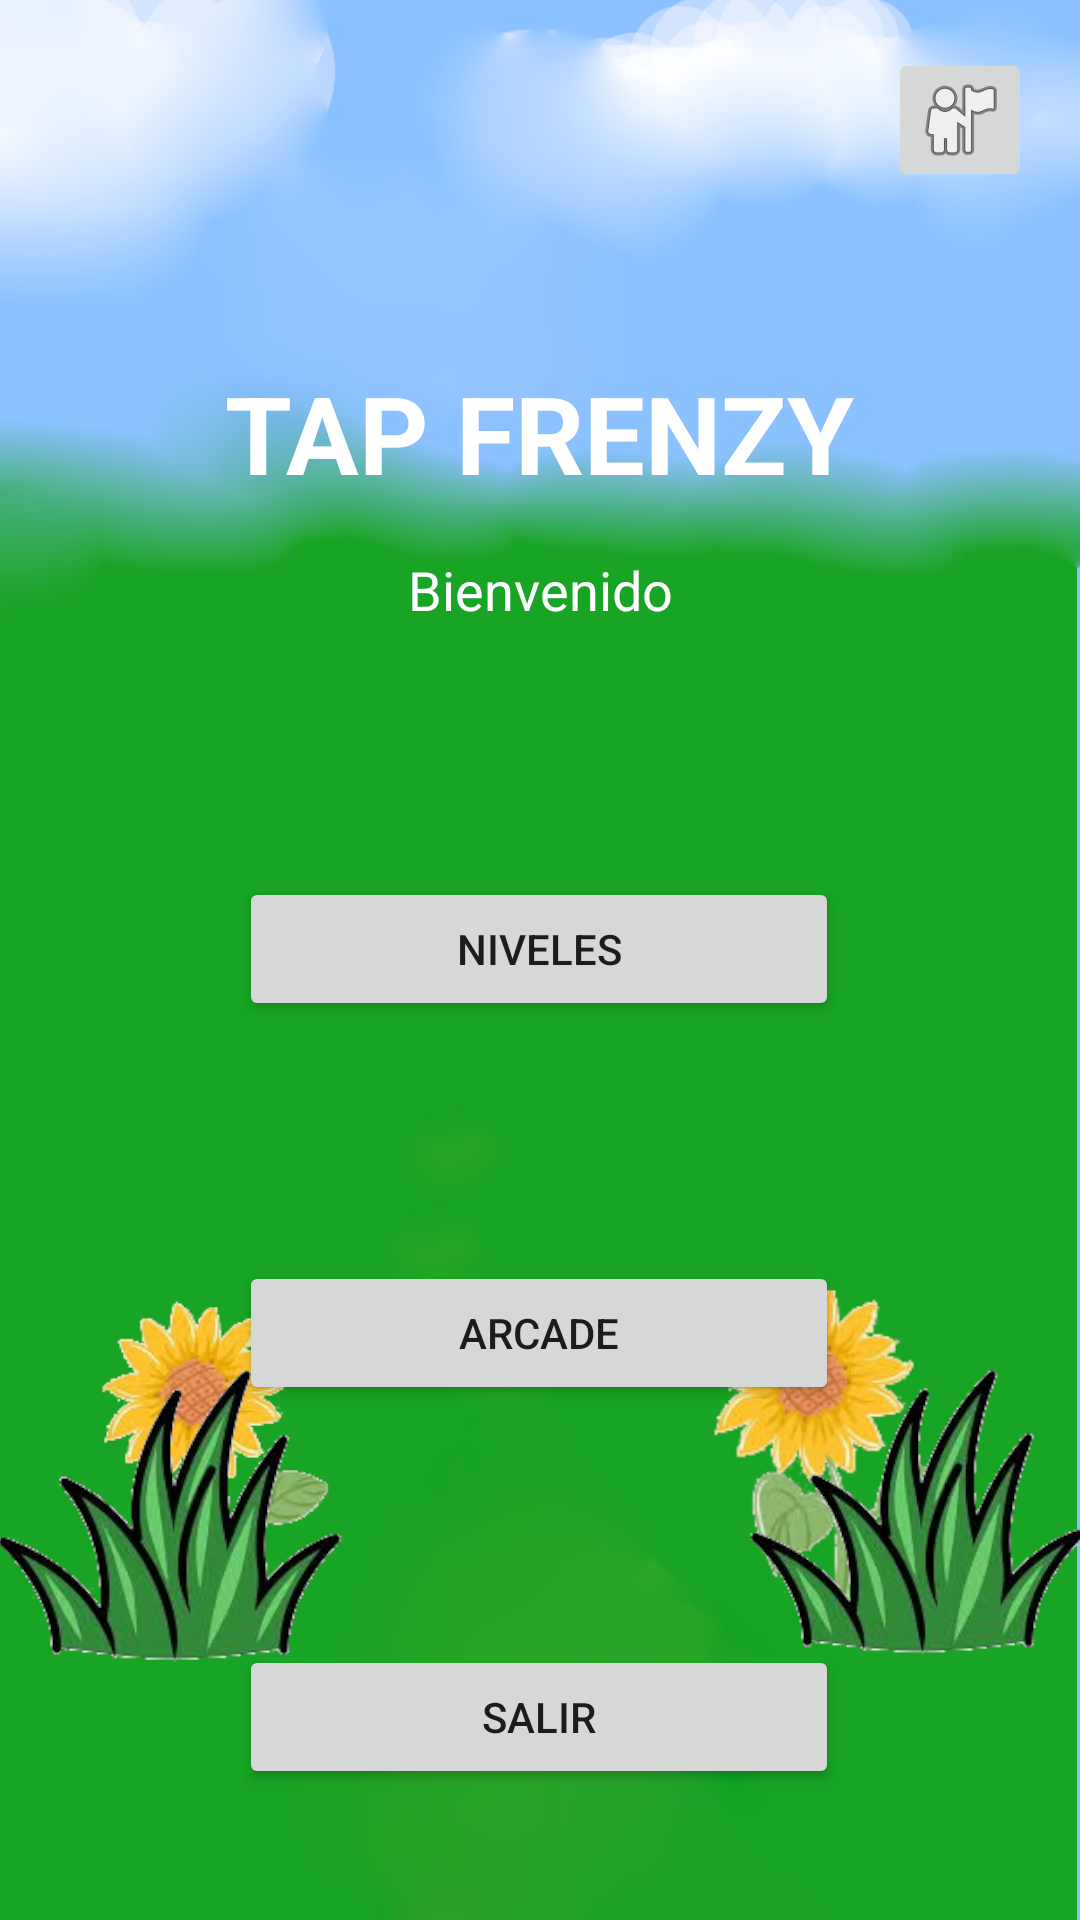

Screen size 1080px×1920px. Icon name, then its center in pixels as (x,y):
Perfil: (960,111)
